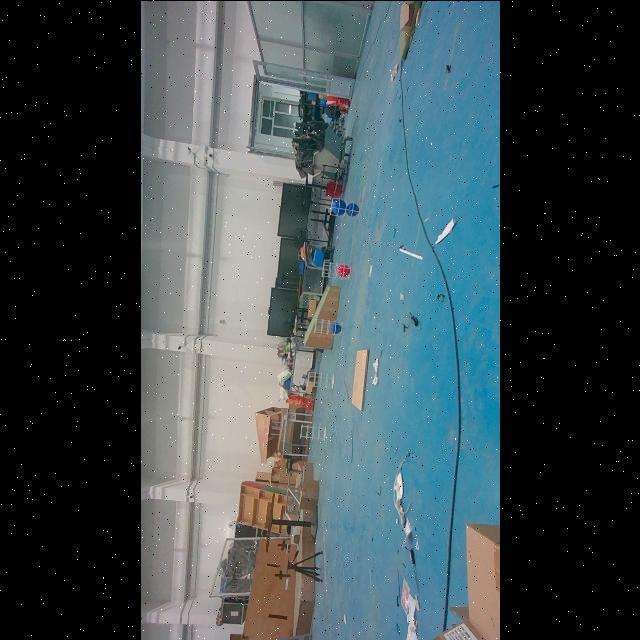B: (345, 200, 359, 216), (331, 198, 344, 214), (328, 321, 342, 334)
R: (338, 262, 350, 278)
S: (318, 256, 354, 282), (328, 196, 362, 220), (311, 316, 345, 338), (296, 421, 328, 441), (305, 370, 337, 390)
